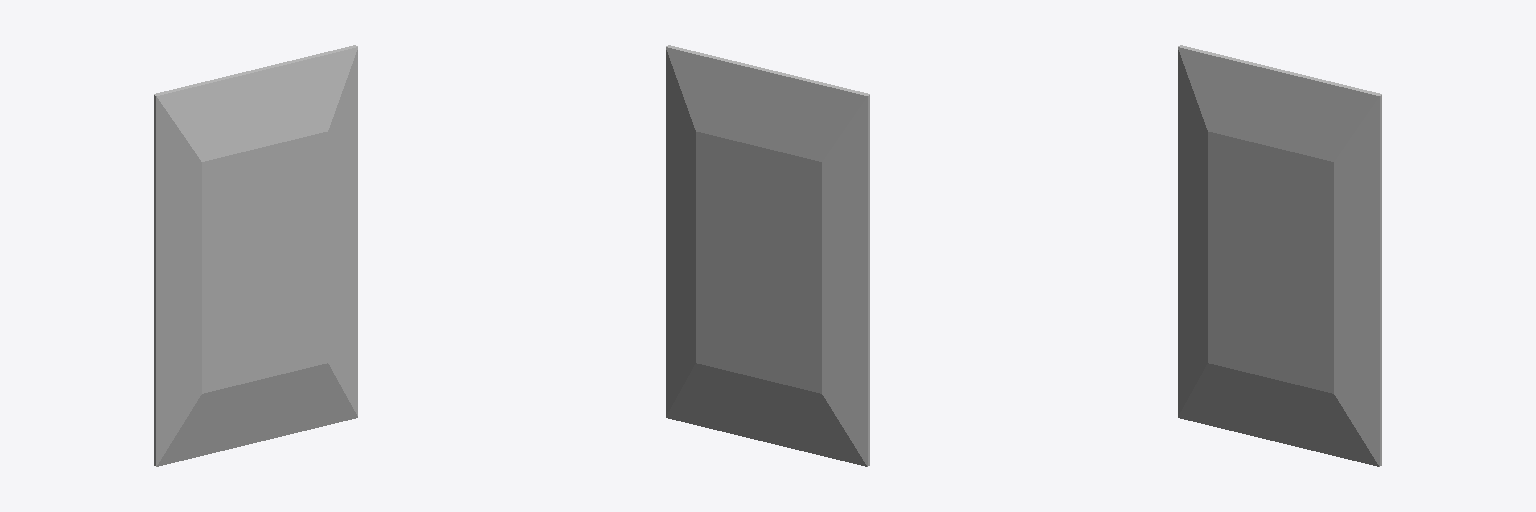
Rendered from CheeseTwoCollision.obj.
3 views of the same model, side by side, from view 1: azimuth 30°, elevation 25°; view 2: azimuth 150°, elevation 25°; view 3: azimuth 330°, elevation 25° (orthographic).
Parts seen in each view (by area): view 1: BurgerPrism.002; view 2: BurgerPrism.002; view 3: BurgerPrism.002.
Boxes of the visible parts, box(x1,y1,x2,y2) form: BurgerPrism.002: box(154, 45, 357, 466); BurgerPrism.002: box(666, 45, 869, 466); BurgerPrism.002: box(1178, 45, 1381, 466).
Size of the model in its own units: 0.08 by 0.1403 by 0.0124.